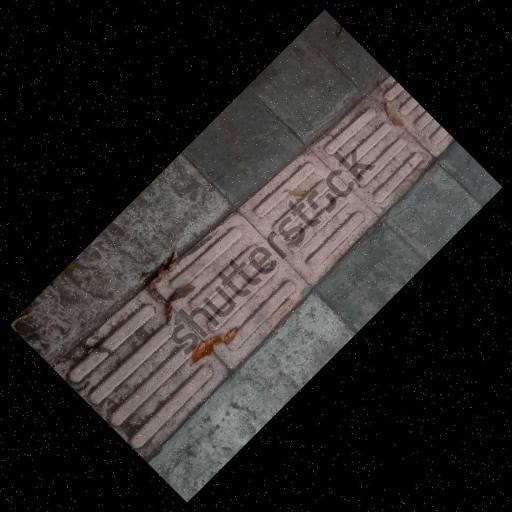line: (53, 287, 230, 461)
